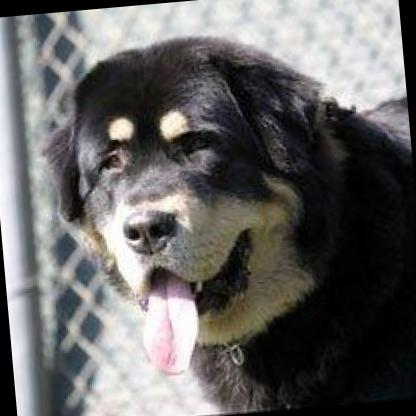Tibetan_mastiff: (23, 8, 416, 416)
